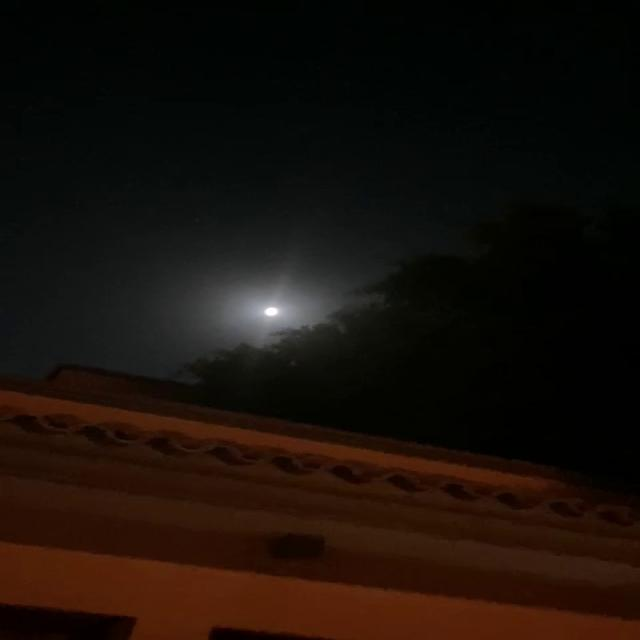moon: (256, 302, 288, 320)
